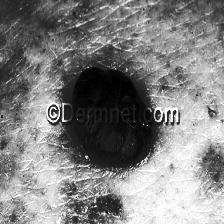Benign Marking or Mole: (68, 66, 155, 168)
